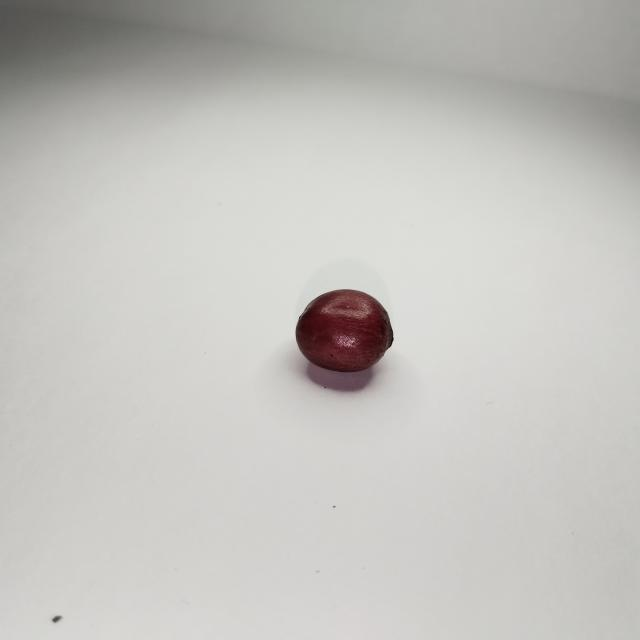Sano: (295, 289, 393, 374)
